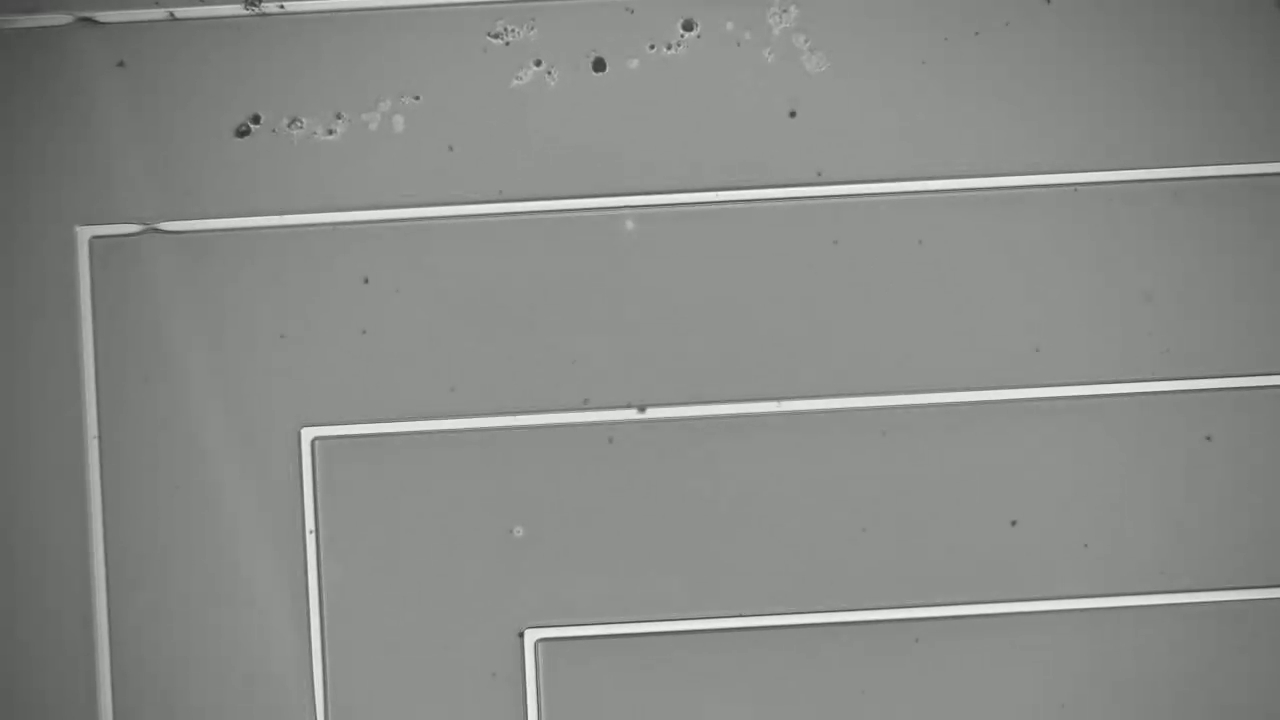edge_bite: (124, 212, 180, 245), (57, 8, 113, 31)
stains_enbedded: (156, 1, 188, 33)
